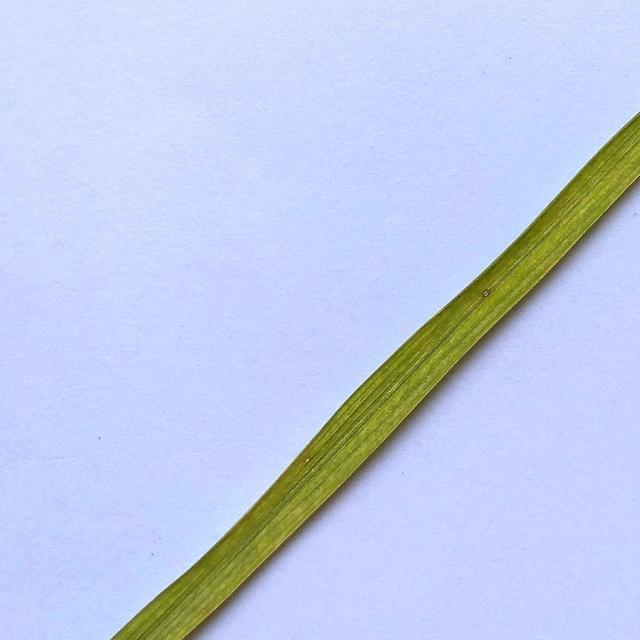Blast: (480, 290, 496, 304), (301, 454, 313, 466)
